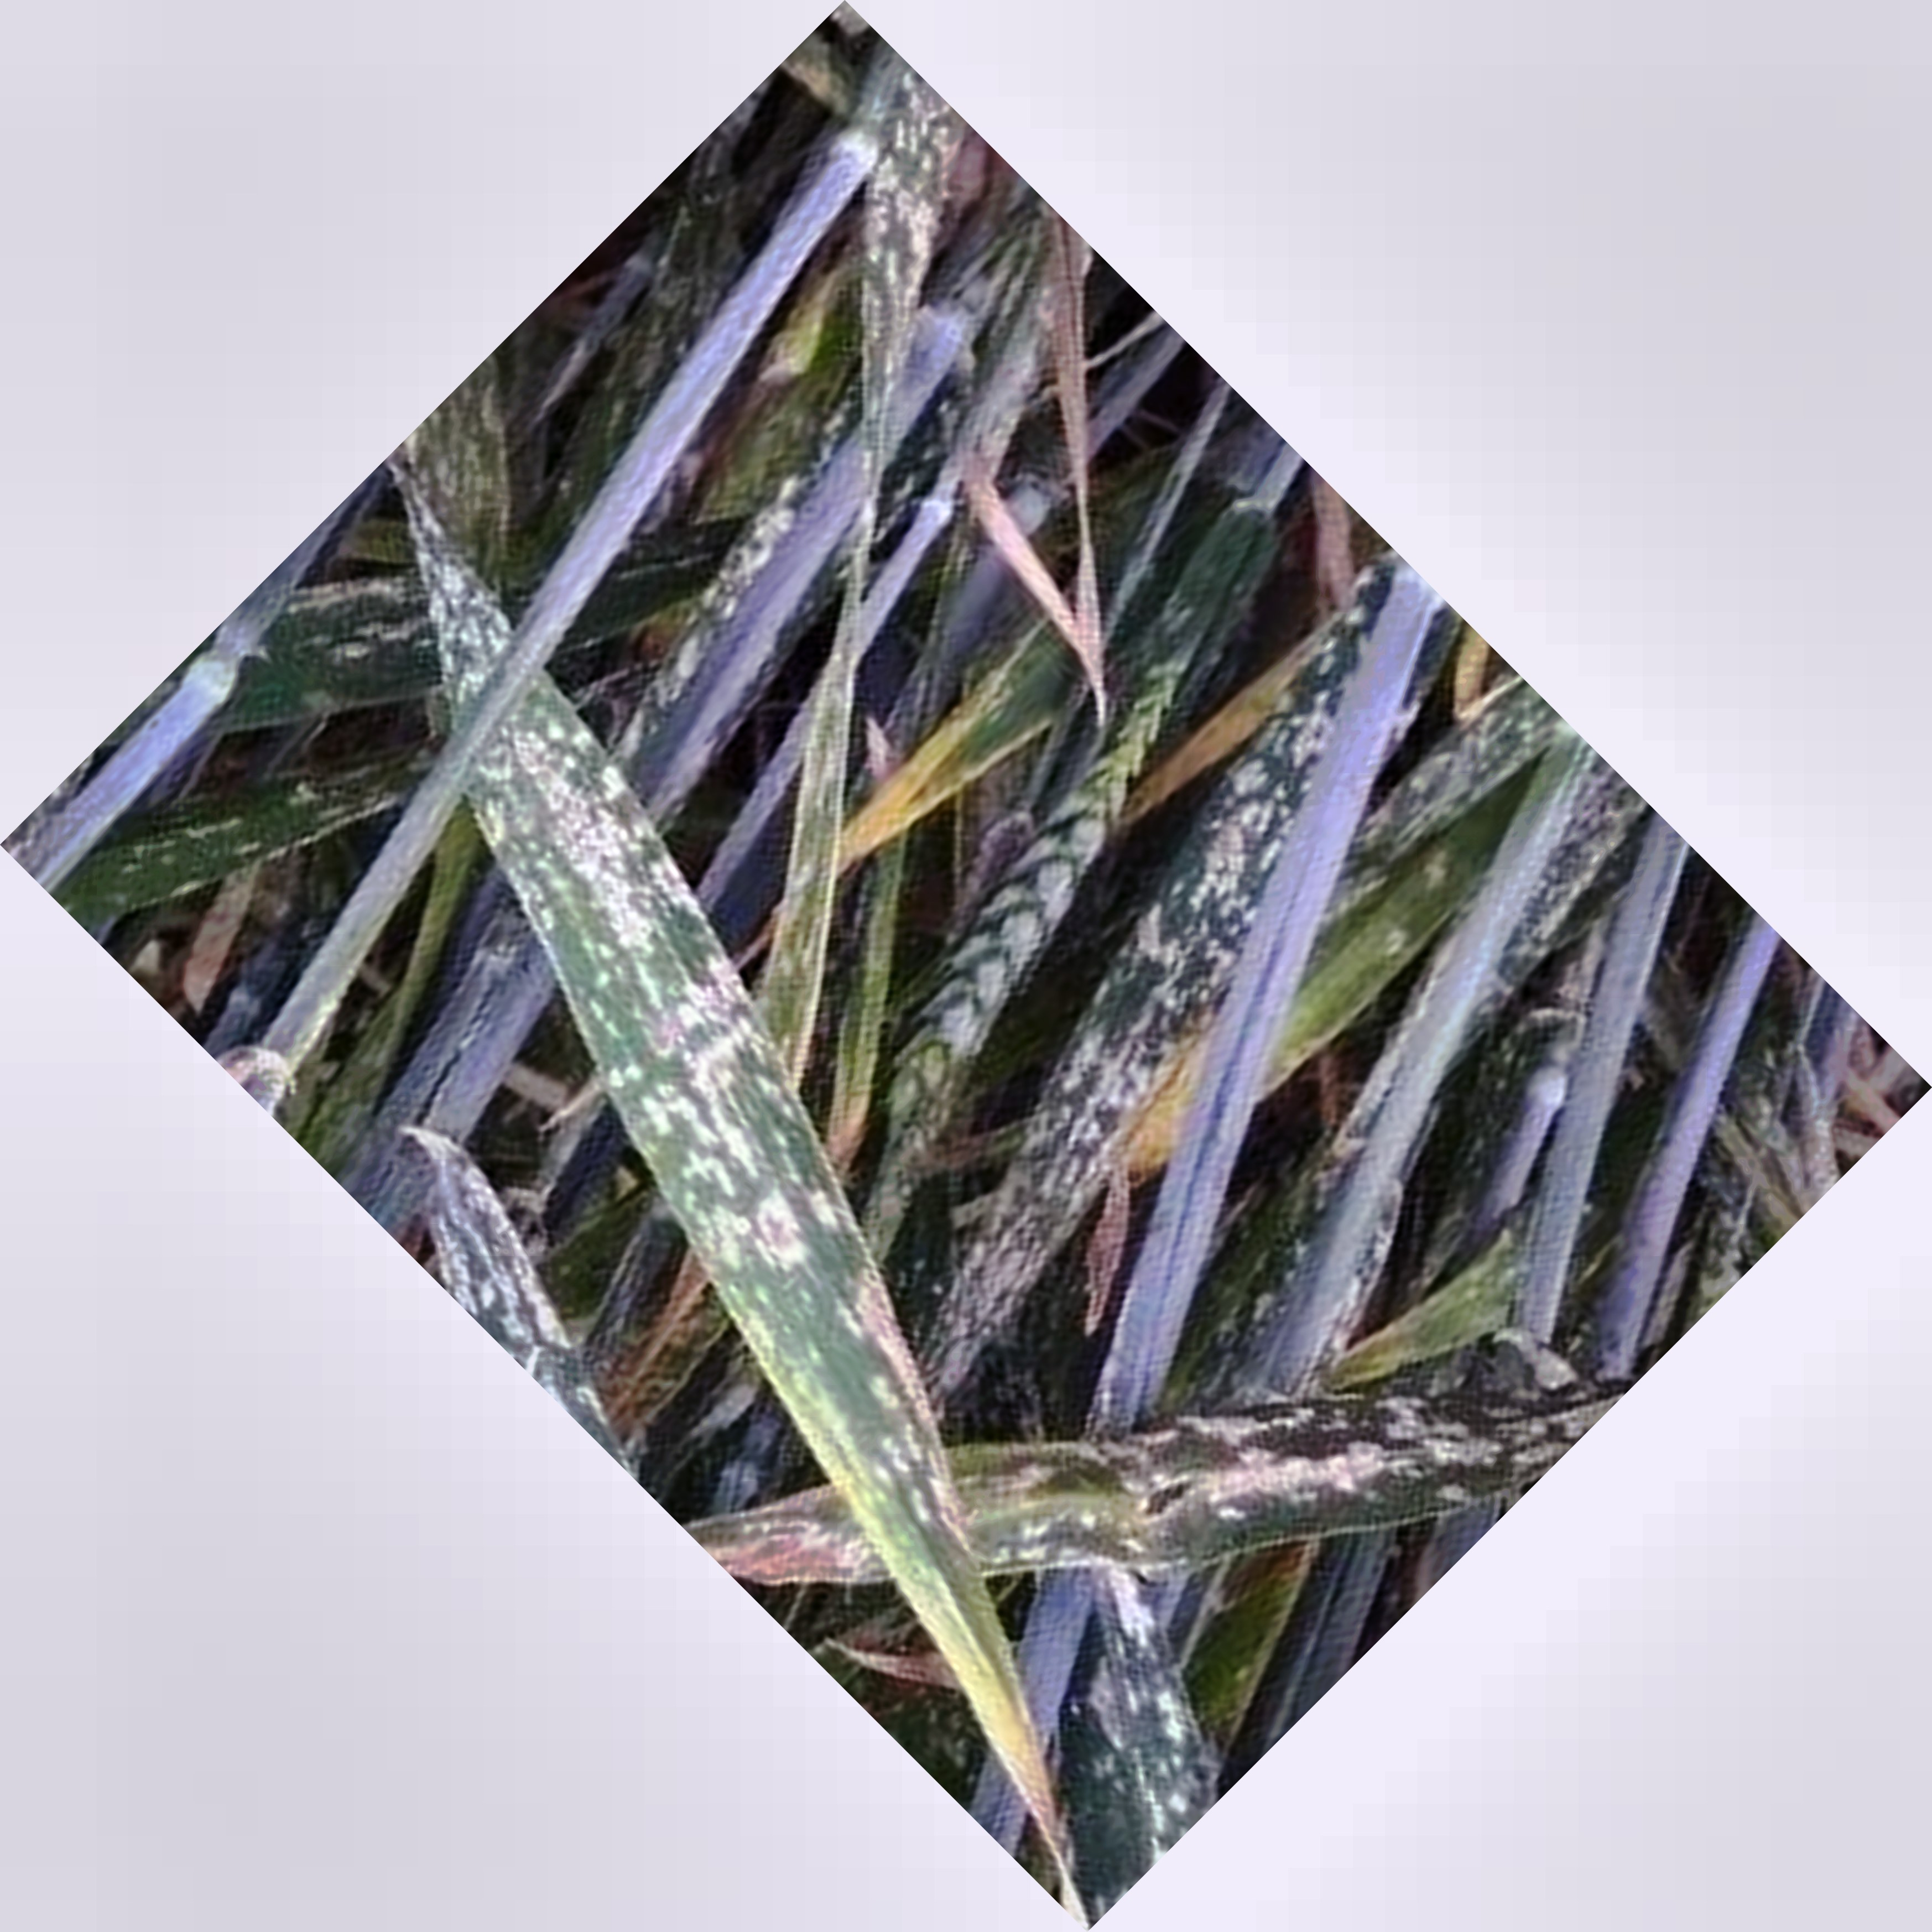Powdery Mildew: (446, 724, 885, 1272), (1024, 729, 1290, 1251)
